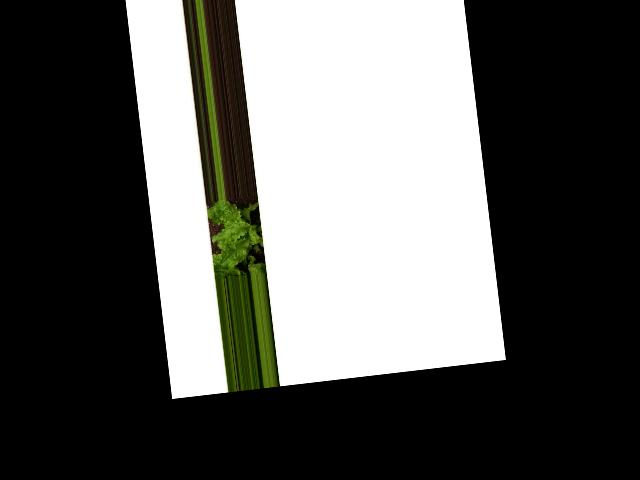lettuce: (208, 196, 270, 279)
